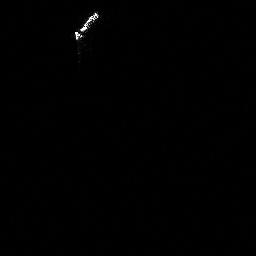ship: (71, 8, 102, 43)
